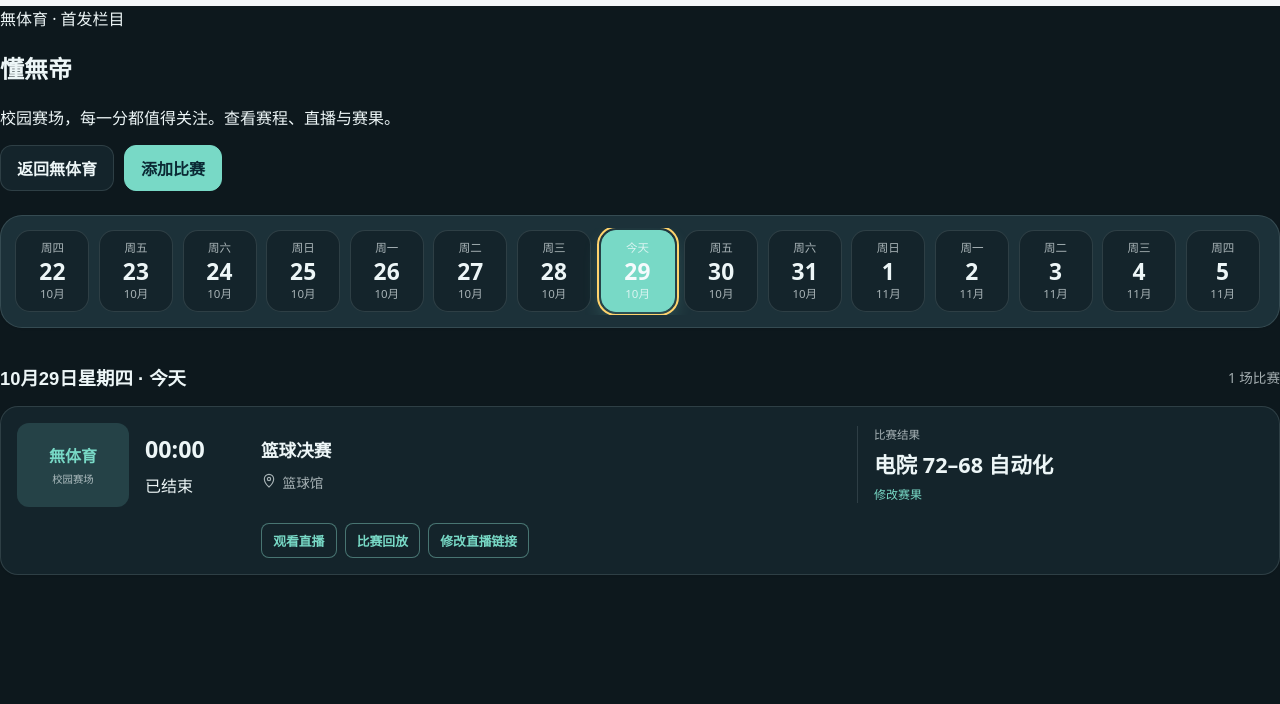
SportsMatchesPage › retains the live-link draft and original match when saving fails
The image size is (1280, 704).
Click the button "修改直播链接".
click(479, 540)  # box [428, 523, 529, 558]
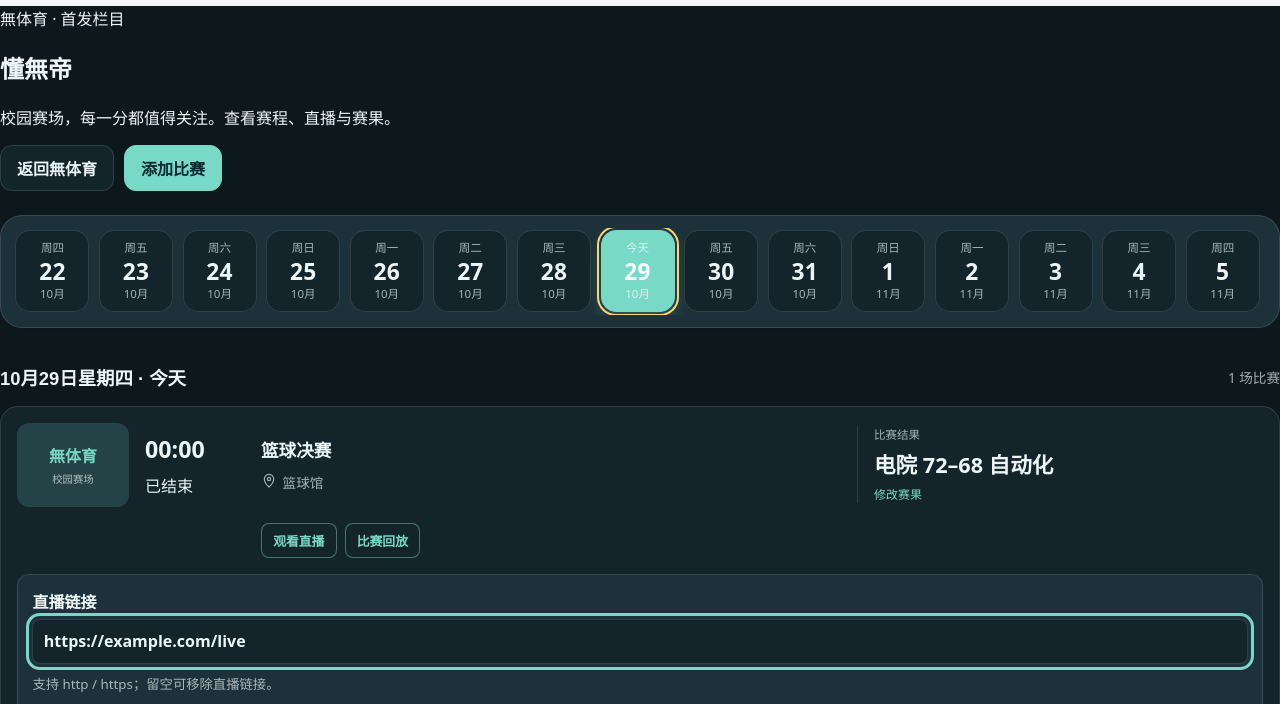
Replace the text in the field named "篮球决赛直播链接" with "https://example.com/draft" at (640, 641), box [32, 619, 1248, 664]
(page scrolled)
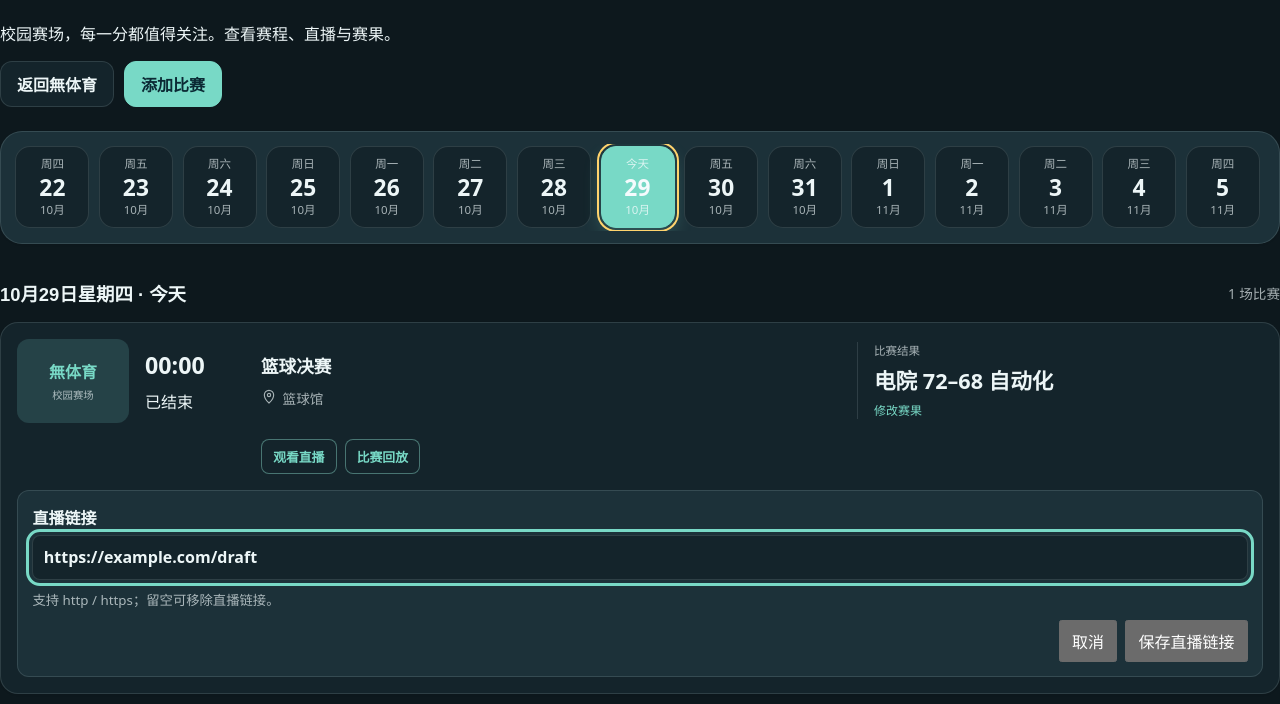
Click the button "保存直播链接".
click(1186, 641)  # box [1125, 620, 1248, 662]
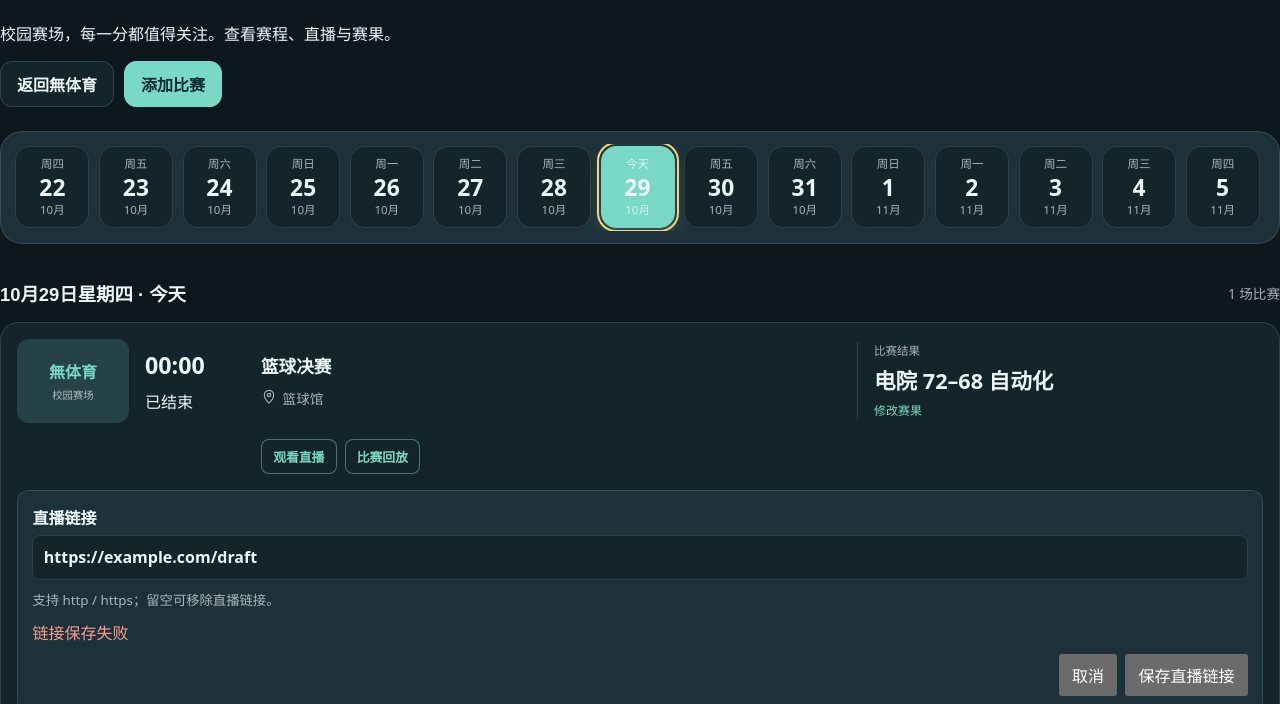
Result: the message reads "链接保存失败" at [32, 622, 128, 644]
